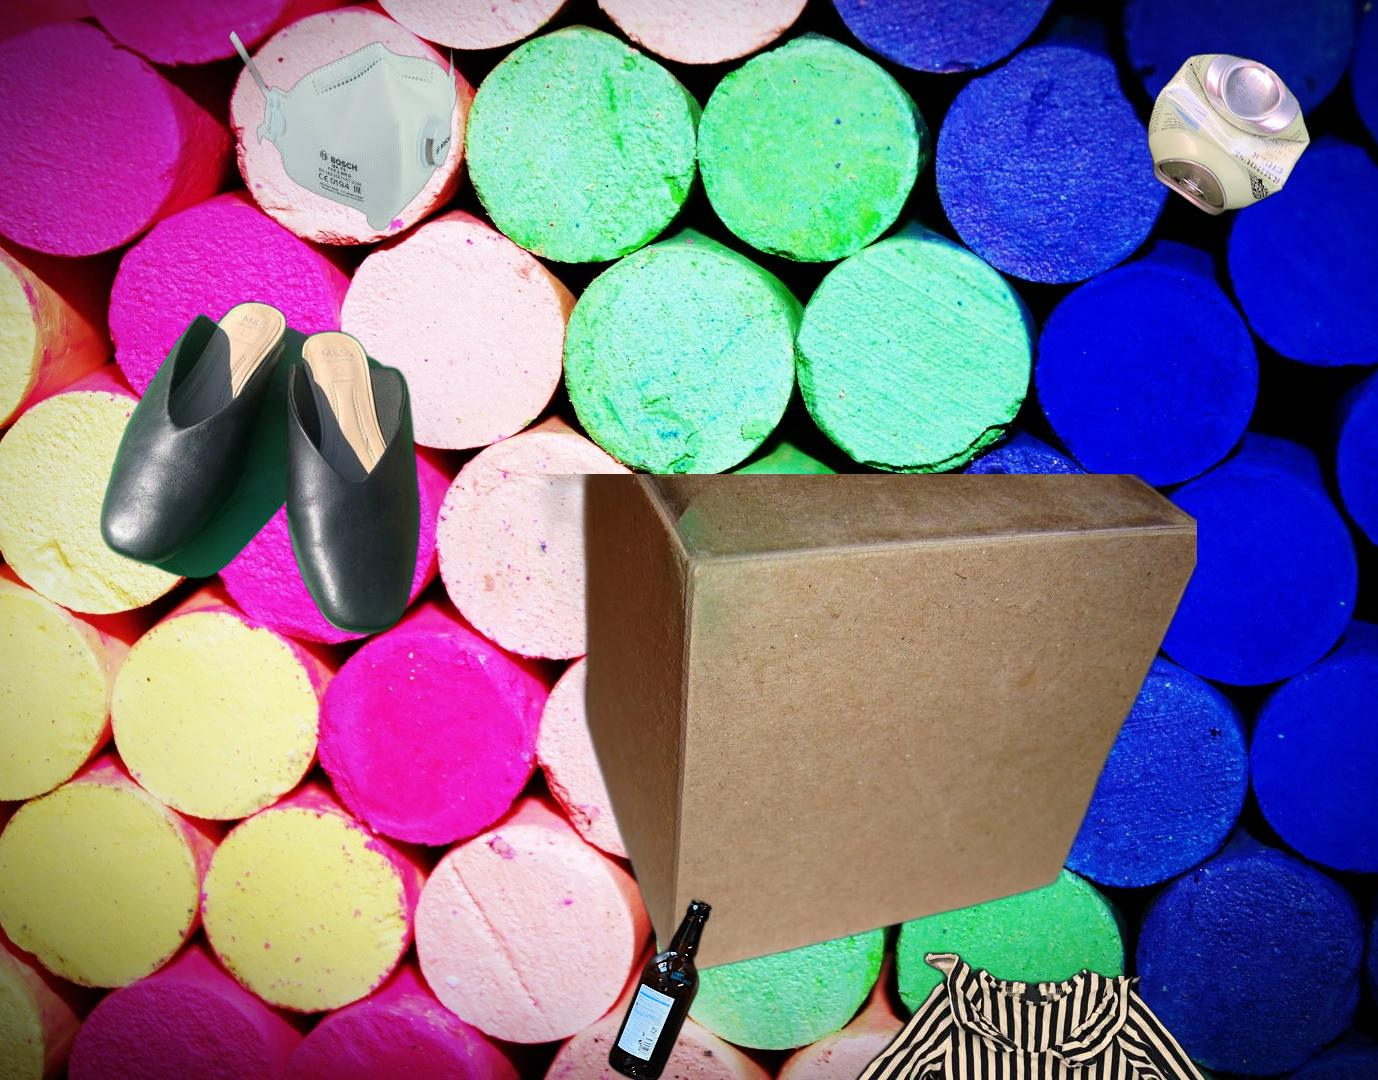clothes: (784, 949, 1283, 1080)
glass: (603, 893, 716, 1080)
metal-cans: (1144, 47, 1314, 221)
shoes: (97, 297, 488, 688)
trash: (223, 25, 459, 233)
trashbox-cardboard: (381, 474, 1197, 979)
